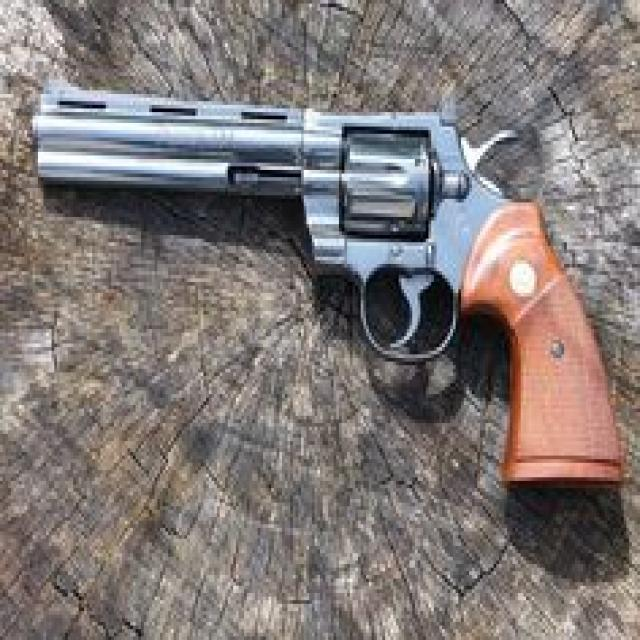revolver: (15, 21, 640, 524)
